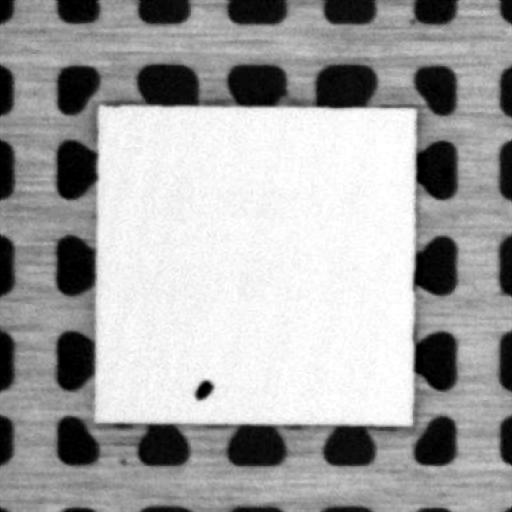DIE_INK: (192, 378, 213, 400)
